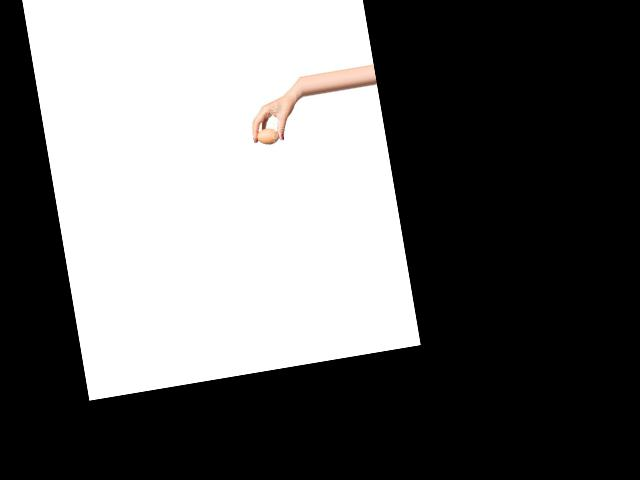egg: (256, 127, 280, 145)
